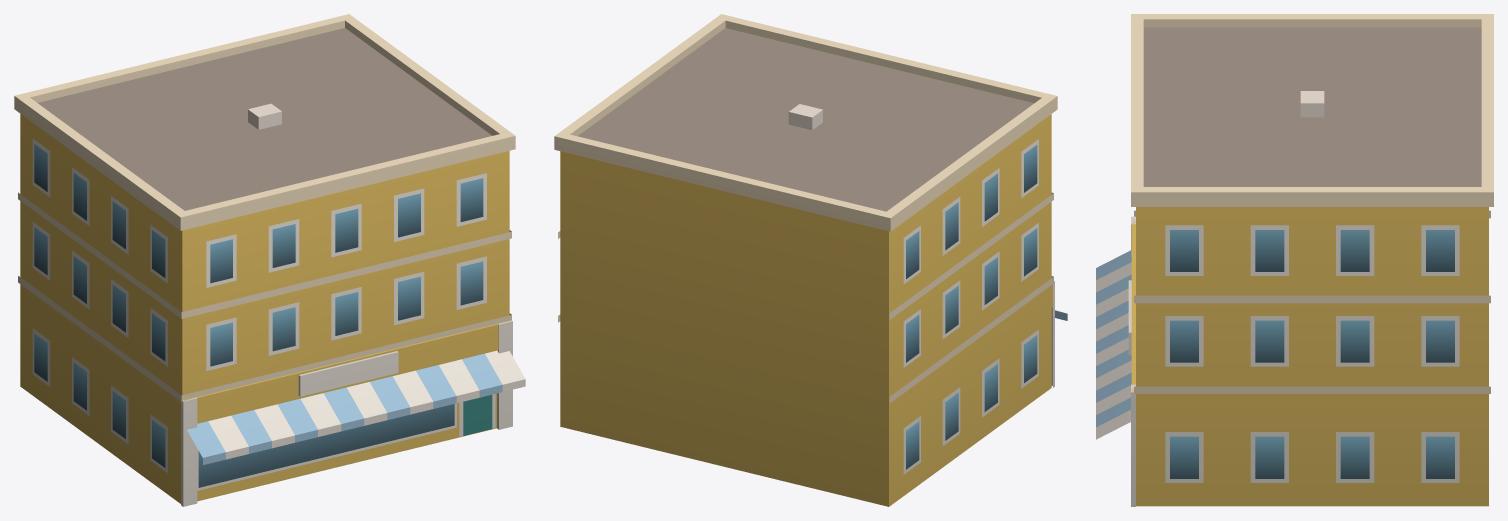
Rendered from tremont_e5_far.glb.
The picture shows the model from 3 angles, left to right: view 1: azimuth 30°, elevation 25°; view 2: azimuth 150°, elevation 25°; view 3: azimuth 270°, elevation 25°; orthographic projection. The views are drawn at different scales.
Visible parts, largest first — view 1: tremont_e5_far; view 2: tremont_e5_far; view 3: tremont_e5_far.
Boxes of the visible parts, x1,y1,x2,y2 form: tremont_e5_far: (14,14,525,506); tremont_e5_far: (554,14,1067,506); tremont_e5_far: (1096,14,1493,506).
Bounding box in the file's own units: 14.32 × 12.07 × 13.51.
1 material, 1 textured.
